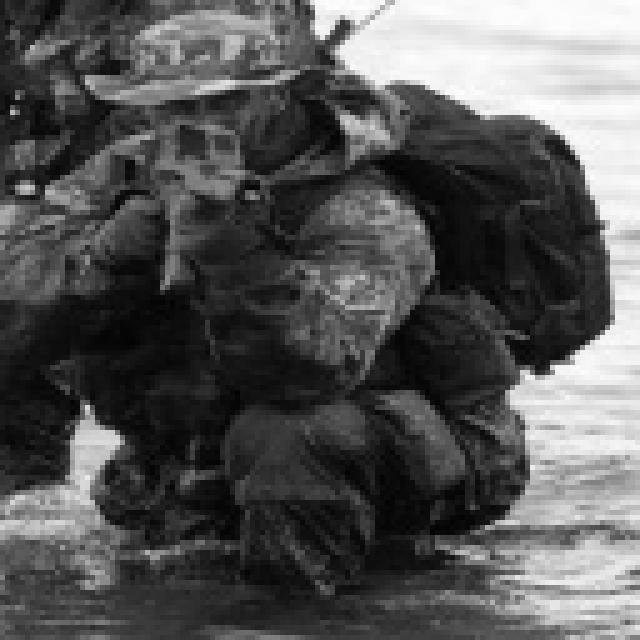Rifle: (71, 81, 296, 342)
